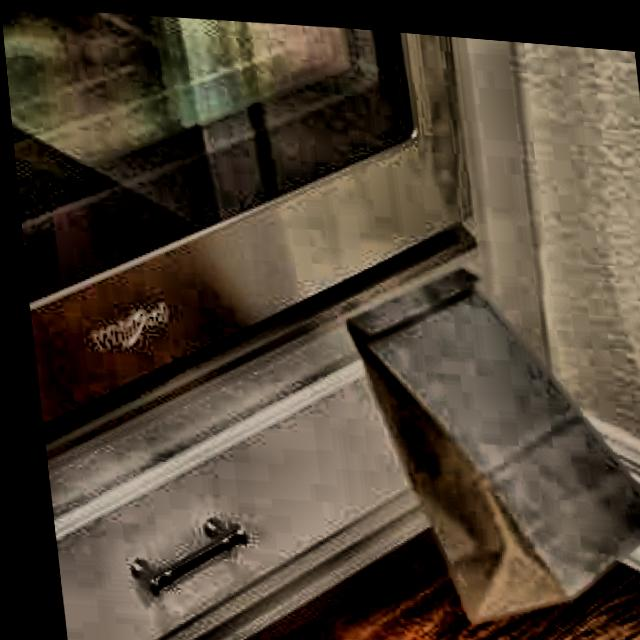Paper-bag: (313, 208, 640, 640)
